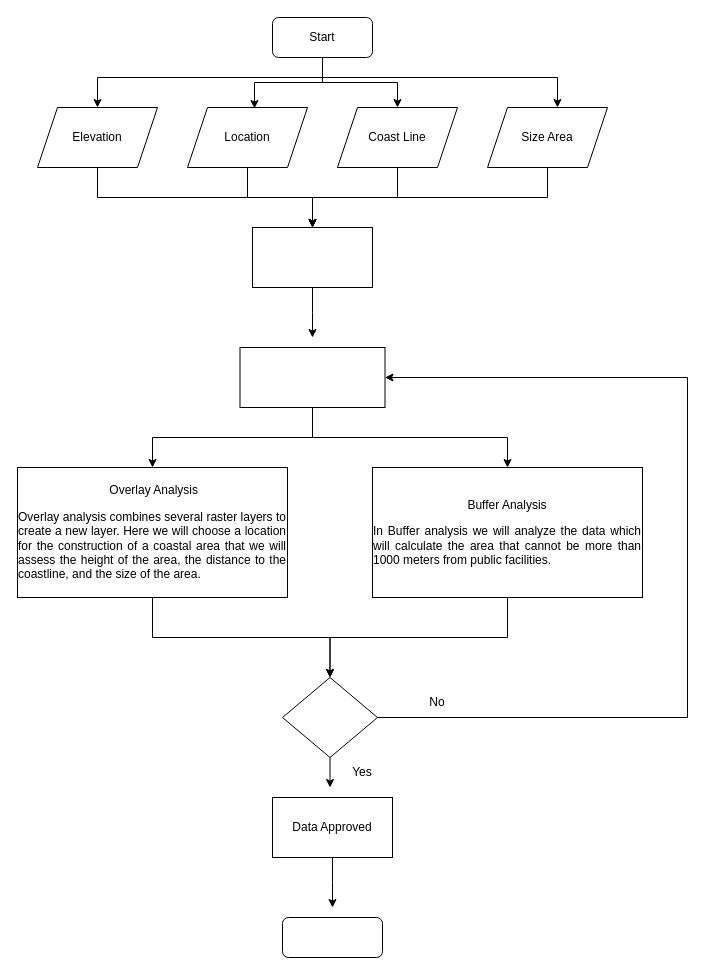
Image size: 713x975. Some labels were removed from this diagram. The shapes that lost their labels are listed below. From the top down, each one's box as (x1, y1, x2, y2) in pixels, then its label:
(252, 226, 372, 288): Proses Data
(239, 346, 385, 408): Spatial Analysis Proces
(282, 676, 378, 758): Approve?
(282, 916, 382, 958): End
